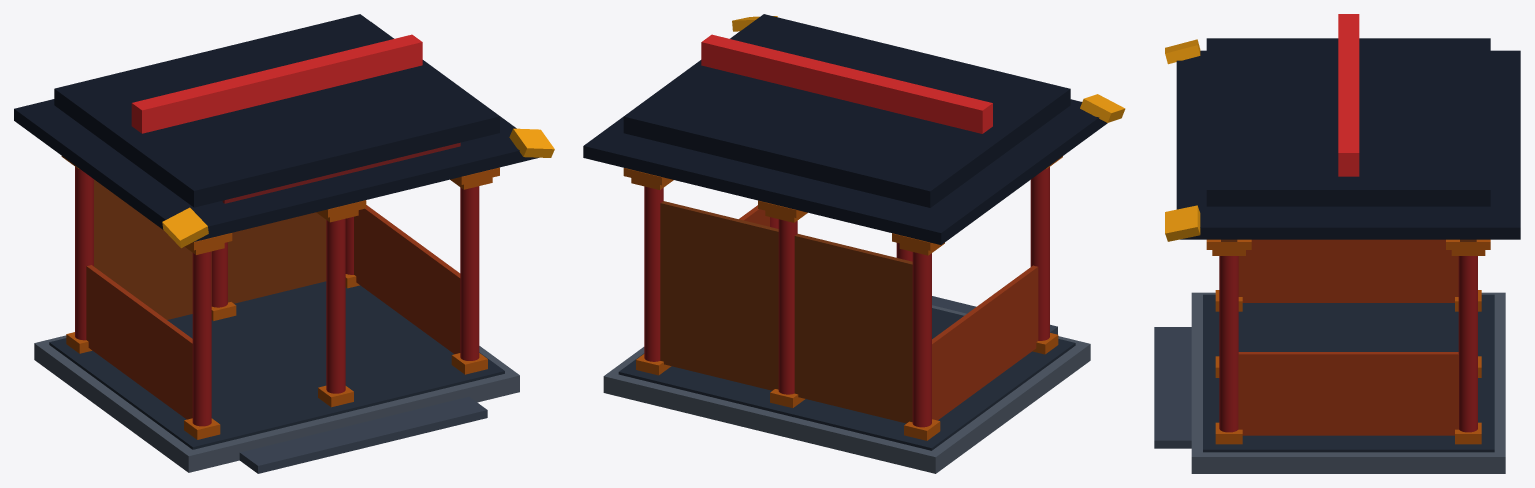
The model's file is booth_05.glb.
3 renders of one model, left to right at view 1: azimuth 30°, elevation 25°; view 2: azimuth 150°, elevation 25°; view 3: azimuth 270°, elevation 25°, orthographic.
Parts seen in each view (by area): view 1: eaves_tier2, courtyard_tiles, eaves_tier1, asian_back_screen, granite_platform, roof_ridge_ornament, asian_side_screen_left, asian_side_screen_right, granite_step, vermilion_pillar_1, vermilion_pillar_0, vermilion_pillar_2 (+5 smaller); view 2: eaves_tier2, asian_back_screen, eaves_tier1, granite_platform, roof_ridge_ornament, courtyard_tiles, asian_side_screen_left, vermilion_pillar_3, vermilion_pillar_4, vermilion_pillar_5, vermilion_pillar_0, corner_flare_fl; view 3: eaves_tier2, eaves_tier1, courtyard_tiles, asian_side_screen_right, asian_side_screen_left, granite_platform, granite_step, roof_ridge_ornament, vermilion_pillar_2, vermilion_pillar_5, corner_flare_fr, corner_flare_fl (+4 smaller).
Boxes of the visible parts, <box> form: eaves_tier2: <box>54,14,499,207</box>; courtyard_tiles: <box>49,281,504,449</box>; eaves_tier1: <box>14,24,538,242</box>; asian_back_screen: <box>94,179,326,319</box>; granite_platform: <box>34,335,519,472</box>; roof_ridge_ornament: <box>131,34,422,133</box>; asian_side_screen_left: <box>86,265,192,419</box>; asian_side_screen_right: <box>354,205,460,354</box>; granite_step: <box>239,396,487,473</box>; vermilion_pillar_1: <box>326,218,345,393</box>; vermilion_pillar_0: <box>192,251,211,426</box>; vermilion_pillar_2: <box>460,186,479,360</box>; eaves_tier2: <box>623,14,1070,207</box>; asian_back_screen: <box>660,201,912,423</box>; eaves_tier1: <box>583,31,1107,244</box>; granite_platform: <box>603,305,1090,473</box>; roof_ridge_ornament: <box>701,34,992,133</box>; courtyard_tiles: <box>618,308,1075,450</box>; asian_side_screen_left: <box>932,265,1038,420</box>; vermilion_pillar_3: <box>912,252,931,427</box>; vermilion_pillar_4: <box>778,219,797,394</box>; vermilion_pillar_5: <box>644,186,663,361</box>; vermilion_pillar_0: <box>1030,167,1049,340</box>; corner_flare_fl: <box>1080,94,1125,122</box>; eaves_tier2: <box>1206,38,1490,206</box>; eaves_tier1: <box>1176,50,1520,239</box>; courtyard_tiles: <box>1203,294,1494,452</box>; asian_side_screen_right: <box>1238,352,1458,435</box>; asian_side_screen_left: <box>1238,239,1458,302</box>; granite_platform: <box>1191,292,1505,473</box>; granite_step: <box>1154,327,1191,448</box>; roof_ridge_ornament: <box>1338,14,1359,176</box>; vermilion_pillar_2: <box>1219,256,1238,432</box>; vermilion_pillar_5: <box>1458,256,1477,432</box>; corner_flare_fr: <box>1165,205,1200,241</box>; corner_flare_fl: <box>1165,39,1200,64</box>.
Size of the model in its own units: 5.94 by 4.55 by 4.9.
